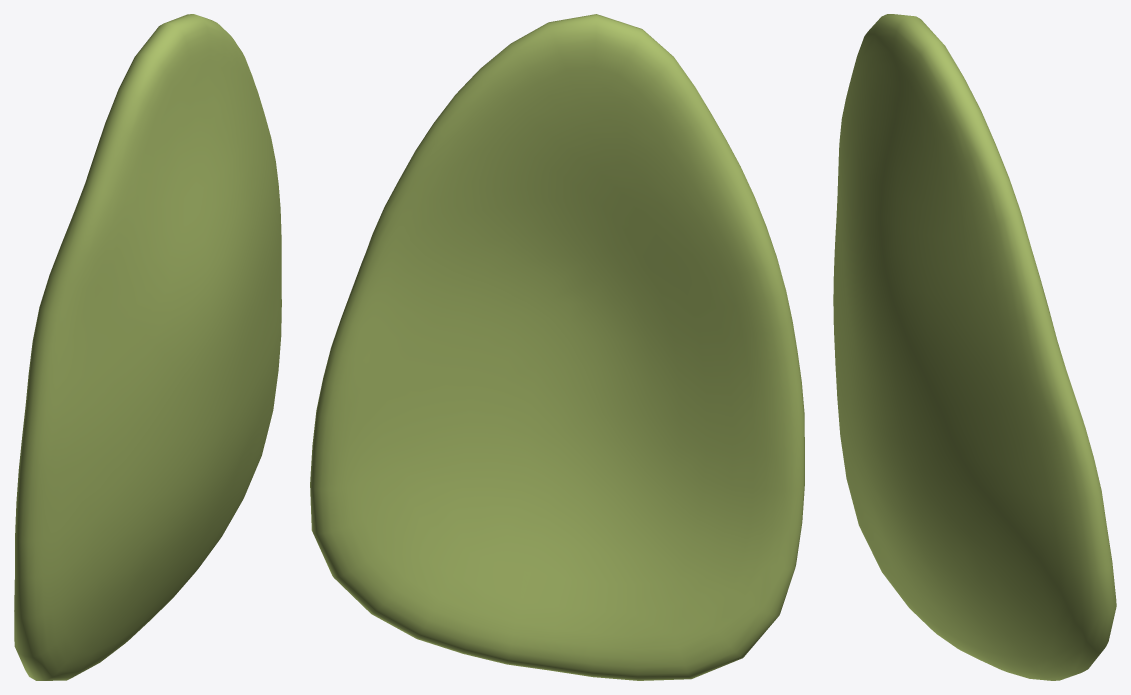
Rendered from TR2_Enamel_Diamond.001 3.glb.
The picture shows the model from 3 angles, left to right: view 1: azimuth 30°, elevation 25°; view 2: azimuth 150°, elevation 25°; view 3: azimuth 270°, elevation 25°; orthographic projection. The views are drawn at different scales.
Visible parts, largest first — view 1: TR2_Enamel_Diamond.001; view 2: TR2_Enamel_Diamond.001; view 3: TR2_Enamel_Diamond.001.
Boxes of the visible parts, x1,y1,x2,y2 form: TR2_Enamel_Diamond.001: (14,14,281,680); TR2_Enamel_Diamond.001: (310,14,804,680); TR2_Enamel_Diamond.001: (833,14,1116,680).
Bounding box in the file's own units: 0.5874 × 0.9558 × 0.3766.
